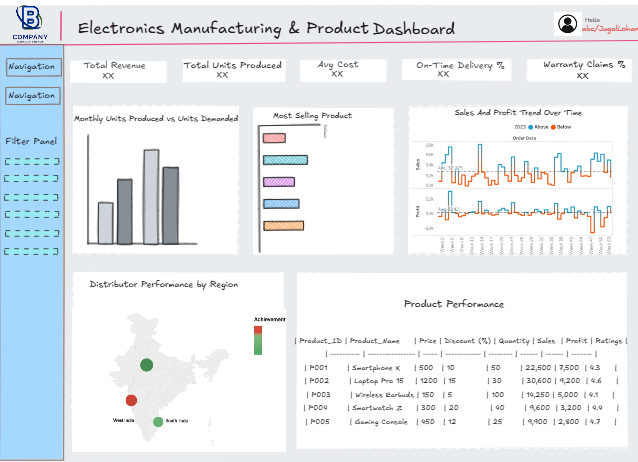

Layout of this report page (visuals, bound fields, positions):
{"tool":"tableau","page":{"name":"Dashboard 1","canvas":[1350,850],"ordinal":0},"visuals":[{"type":"image","param":"Image/download__1_-removebg-preview.png","box":[0,0,101,56]},{"type":"blank","box":[101,0,10,56]},{"type":"text","box":[111,0,865,56]},{"type":"blank","box":[976,0,374,56]},{"type":"blank","box":[0,56,1350,2]},{"type":"filter","title":"Unit Produced Vs Units Demanded","param":"[federated.0bsn9tm14zc44j15jpvzd0lx3n3e].[mn:Date:ok]","box":[0,58,450,45]},{"type":"filter","title":"Unit Produced Vs Units Demanded","param":"[federated.0bsn9tm14zc44j15jpvzd0lx3n3e].[tmn:Date:ok]","box":[450,58,450,45]},{"type":"filter","title":"Unit Produced Vs Units Demanded","param":"[federated.0bsn9tm14zc44j15jpvzd0lx3n3e].[:Measure Names]","box":[900,58,450,45]},{"type":"worksheet","title":"Total Revenue","mark":"Automatic","rows":["Revenue"],"cols":["Date"],"box":[8,111,267,140]},{"type":"worksheet","title":"Total Profit","mark":"Automatic","rows":["Profit"],"cols":["Date"],"box":[275,111,267,140]},{"type":"worksheet","title":"Total Unit Produced","mark":"Automatic","rows":["Units_Produced"],"cols":["Date"],"box":[542,111,267,140]},{"type":"worksheet","title":"On Time Deliveries ","mark":"Automatic","rows":["On_time_Delivery_%"],"cols":["Date"],"box":[809,111,267,140]},{"type":"worksheet","title":"Total Units Demanded","mark":"Automatic","rows":["Units_Demanded"],"cols":["Date"],"box":[1076,111,266,140]},{"type":"worksheet","title":"Unit Produced Vs Units Demanded","mark":"Bar","cols":["Date"],"box":[8,259,667,286]},{"type":"worksheet","title":"Sales and Profit Trend over Time","mark":"Automatic","rows":["Units_Sold","Profit"],"cols":["Date"],"box":[675,259,667,286]},{"type":"legend","title":"Unit Produced Vs Units Demanded","param":"[federated.0bsn9tm14zc44j15jpvzd0lx3n3e].[:Measure Names]","box":[341,265,338,23]},{"type":"worksheet","title":"Unit Sold By Region","mark":"Automatic","box":[8,553,445,289]},{"type":"worksheet","title":"Most Selling Product","mark":"Automatic","rows":["Product Name"],"cols":["Unit Price"],"box":[453,553,445,289]},{"type":"worksheet","title":"Product Performance","mark":"Automatic","rows":["Product ID","Product Name","Brand","Product Category","SKU"],"box":[898,553,444,289]}]}

Visuals, with their boxes on the page's 1350x850 design canvas (x1, y1, x2, y2). These are canvas units, not pixel positions in the 638x462 screenshot, which may show the page scaled, cropped or inside an application window:
image: region(0, 0, 101, 56)
blank: region(101, 0, 111, 56)
text: region(111, 0, 976, 56)
blank: region(976, 0, 1350, 56)
blank: region(0, 56, 1350, 58)
"Unit Produced Vs Units Demanded" filter: region(0, 58, 450, 103)
"Unit Produced Vs Units Demanded" filter: region(450, 58, 900, 103)
"Unit Produced Vs Units Demanded" filter: region(900, 58, 1350, 103)
"Total Revenue" worksheet: region(8, 111, 275, 251)
"Total Profit" worksheet: region(275, 111, 542, 251)
"Total Unit Produced" worksheet: region(542, 111, 809, 251)
"On Time Deliveries " worksheet: region(809, 111, 1076, 251)
"Total Units Demanded" worksheet: region(1076, 111, 1342, 251)
"Unit Produced Vs Units Demanded" worksheet (Bar marks): region(8, 259, 675, 545)
"Sales and Profit Trend over Time" worksheet: region(675, 259, 1342, 545)
"Unit Produced Vs Units Demanded" legend: region(341, 265, 679, 288)
"Unit Sold By Region" worksheet: region(8, 553, 453, 842)
"Most Selling Product" worksheet: region(453, 553, 898, 842)
"Product Performance" worksheet: region(898, 553, 1342, 842)
